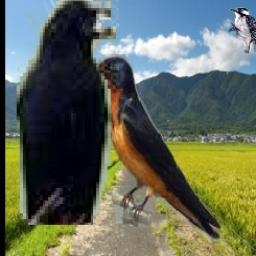Crow: (18, 0, 121, 226)
Swallow: (85, 54, 222, 243)
Woodpecker: (230, 7, 256, 53)
